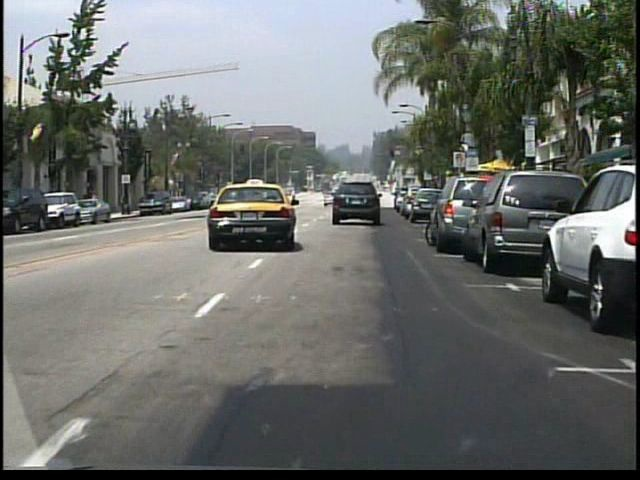person: (82, 188, 95, 217), (90, 190, 102, 217)
